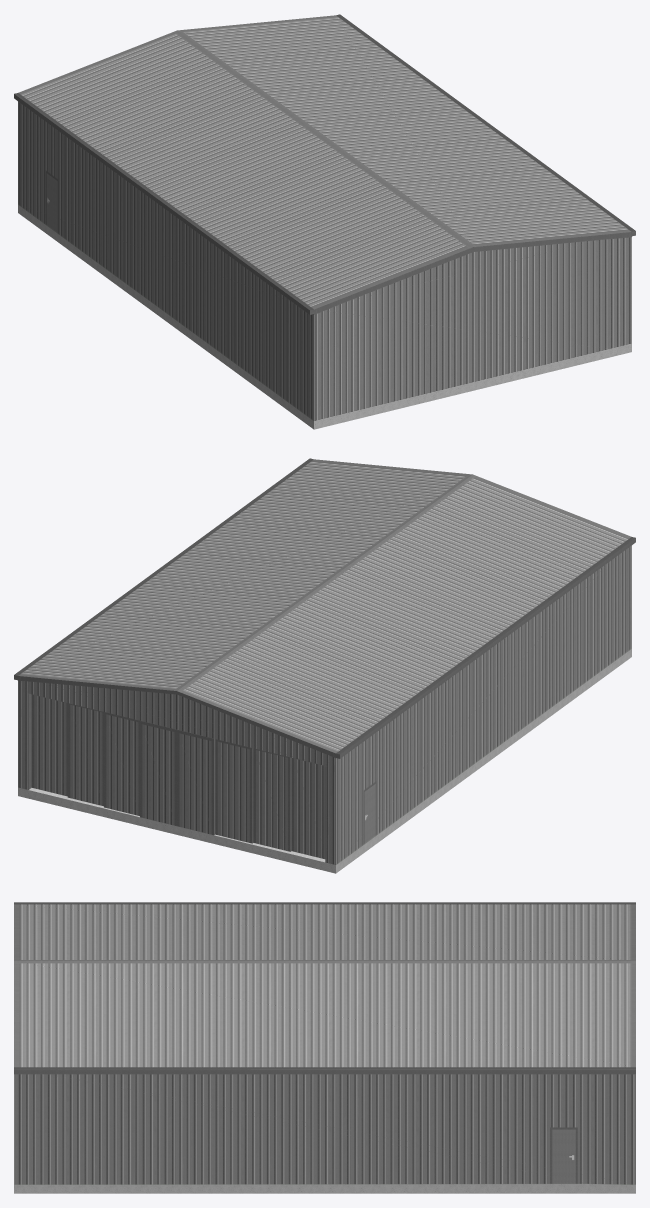
File: hangar-16x25x5grey-cbj_LOD00.gltf
3 views of the same model, one above another, from view 1: azimuth 30°, elevation 25°; view 2: azimuth 150°, elevation 25°; view 3: azimuth 270°, elevation 25° (orthographic). The views are drawn at different scales.
Visible parts, largest first — view 1: hangar; view 2: hangar; view 3: hangar.
Part boxes in pixels (x1,y1,x2,y2): hangar: (14, 14, 635, 429); hangar: (14, 458, 635, 873); hangar: (14, 902, 635, 1193).
Size of the model in its own units: 15.9 by 6.7 by 25.
